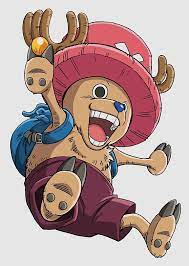chopper: (21, 8, 178, 153)
